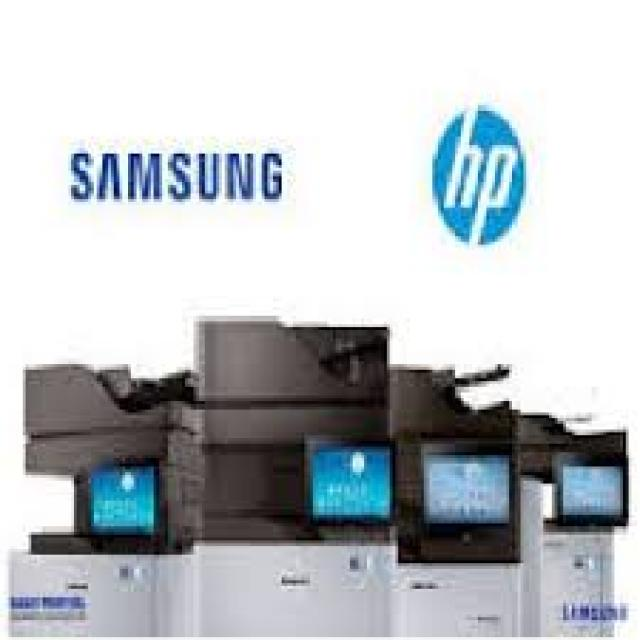printer: (192, 313, 394, 640), (5, 362, 199, 640), (384, 358, 521, 640), (515, 391, 631, 640)
